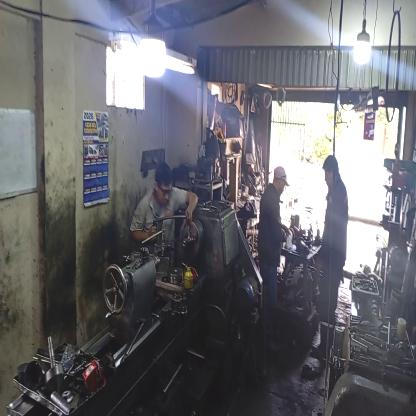lentes: (156, 180, 174, 198)
